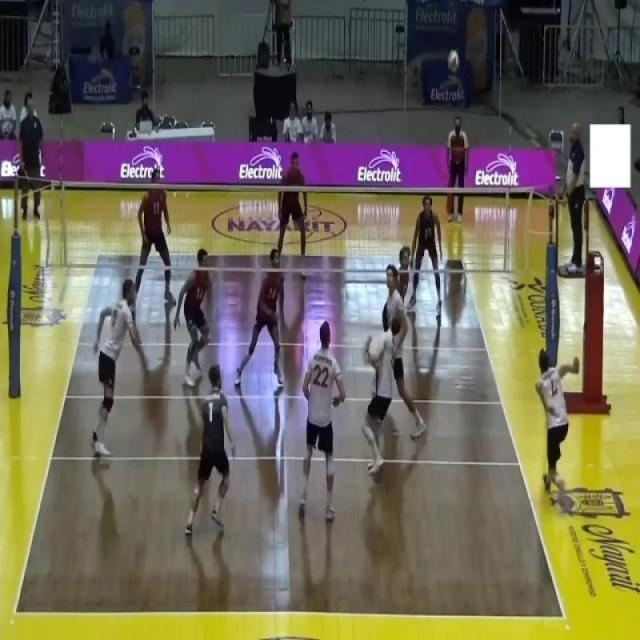volleyball: (447, 49, 460, 74)
